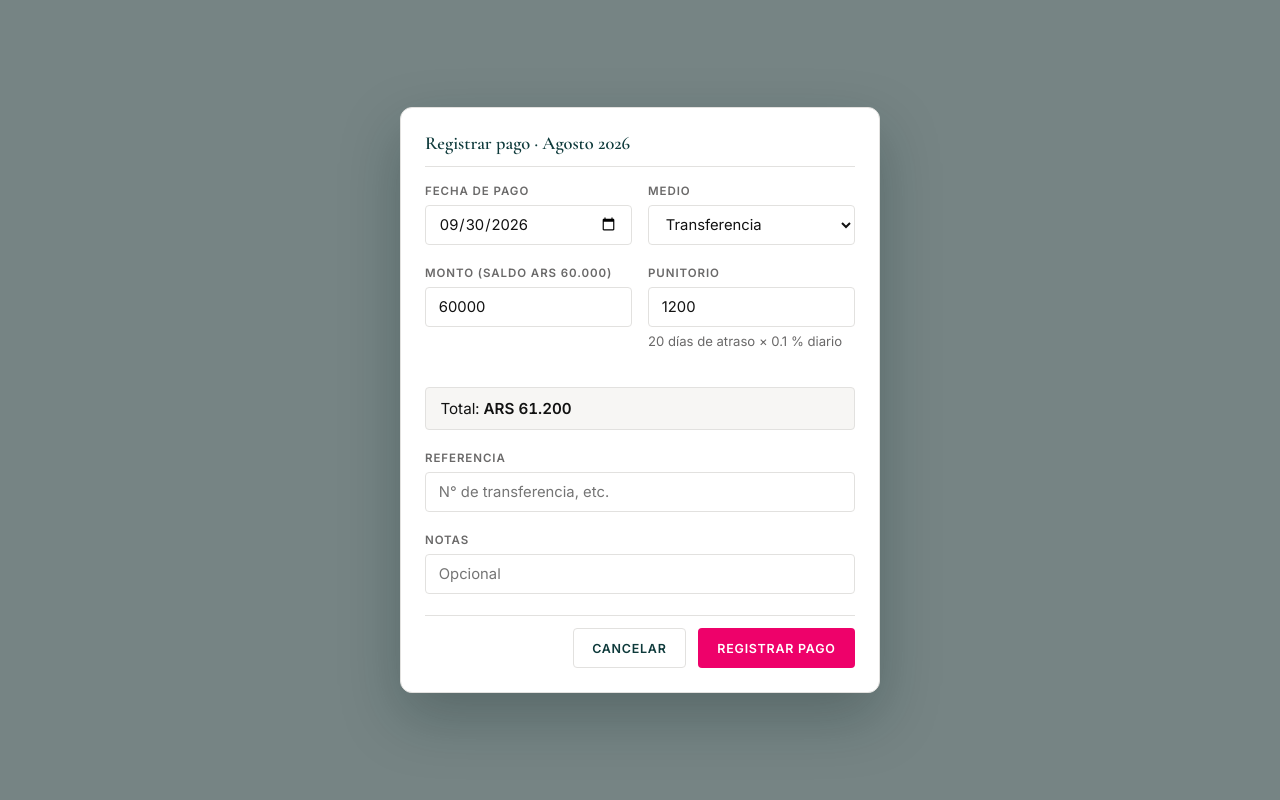
Test case: cambiar la fecha vuelve a pedir el punitorio y lo precarga
This screenshot has width=1280, height=800.
Check: the number field labelled "Punitorio" holds "1200", box [648,286,855,326]
Type "2026-08-11" into the date field labelled "Fecha de pago".
click(528, 224); type("2026-08-11")  # box [425,204,632,244]
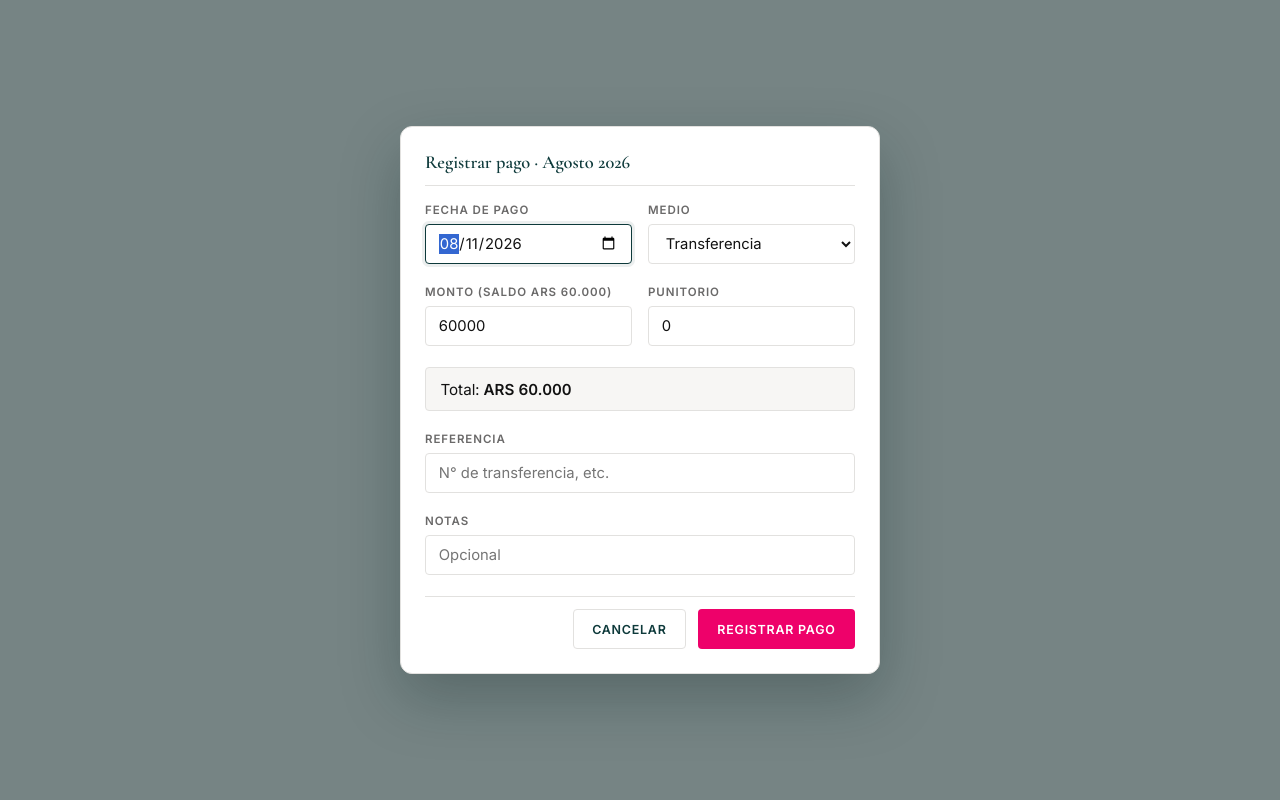
Check: the number field labelled "Punitorio" holds "0", box [648,306,855,346]
Check: the text "ARS 60.000" is shown, box [484,380,572,398]
